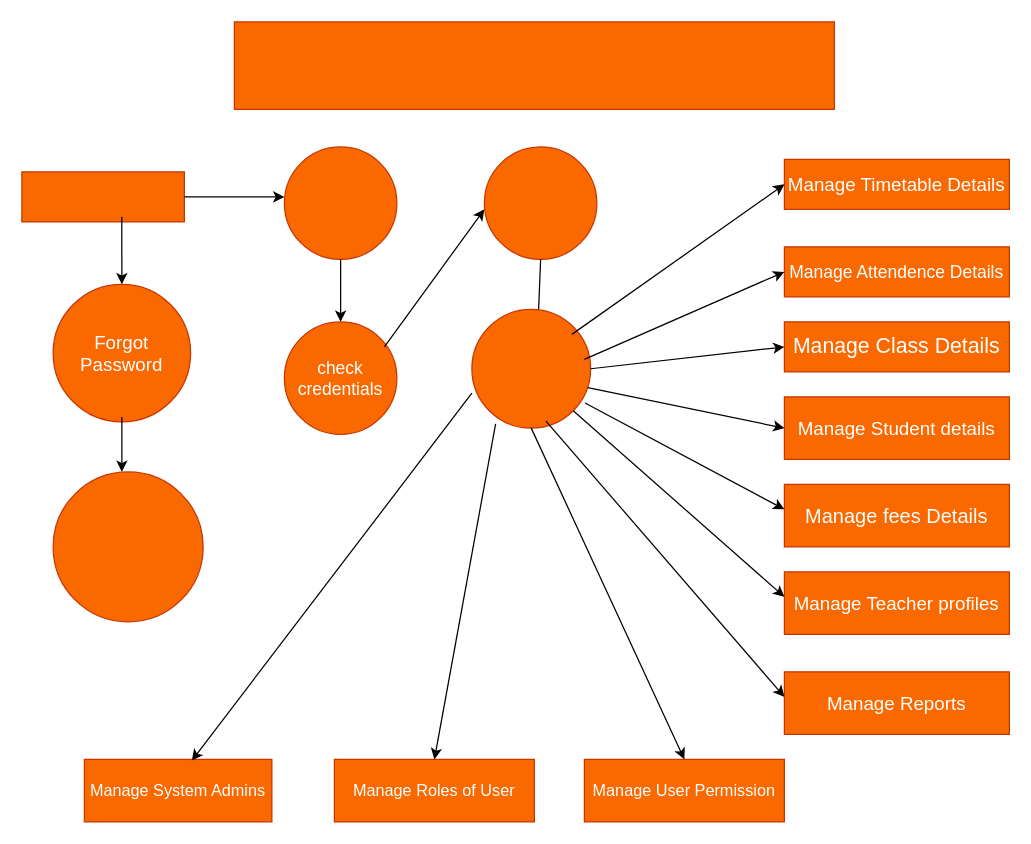
The diagram is 1031 pixels wide and 844 high, and some of its shapes have lost their labels. Here are the shapes that lost their labels. From the top down, the centre of each, then its label:
the point at 533,65: Student Information System
the point at 102,196: Admin
the point at 340,202: login to system
the point at 540,202: Check Roles of Access
the point at 531,368: Manage Modules
the point at 127,546: Send Email to user
